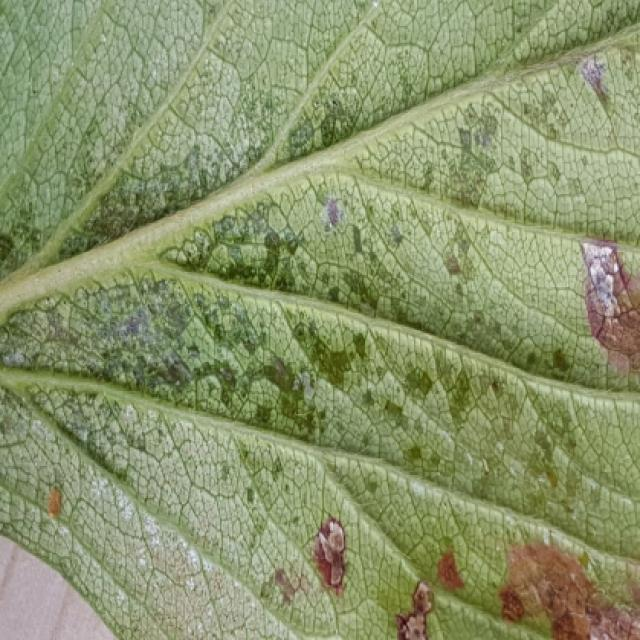Angular Leafspot: (0, 0, 638, 638)
